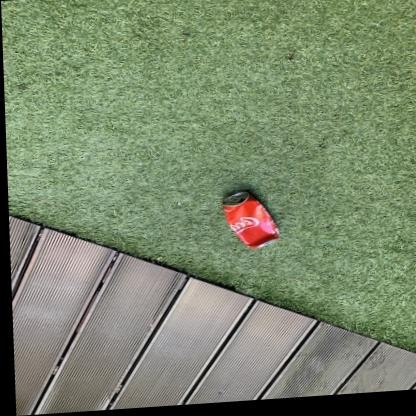trash: (223, 192, 278, 247)
